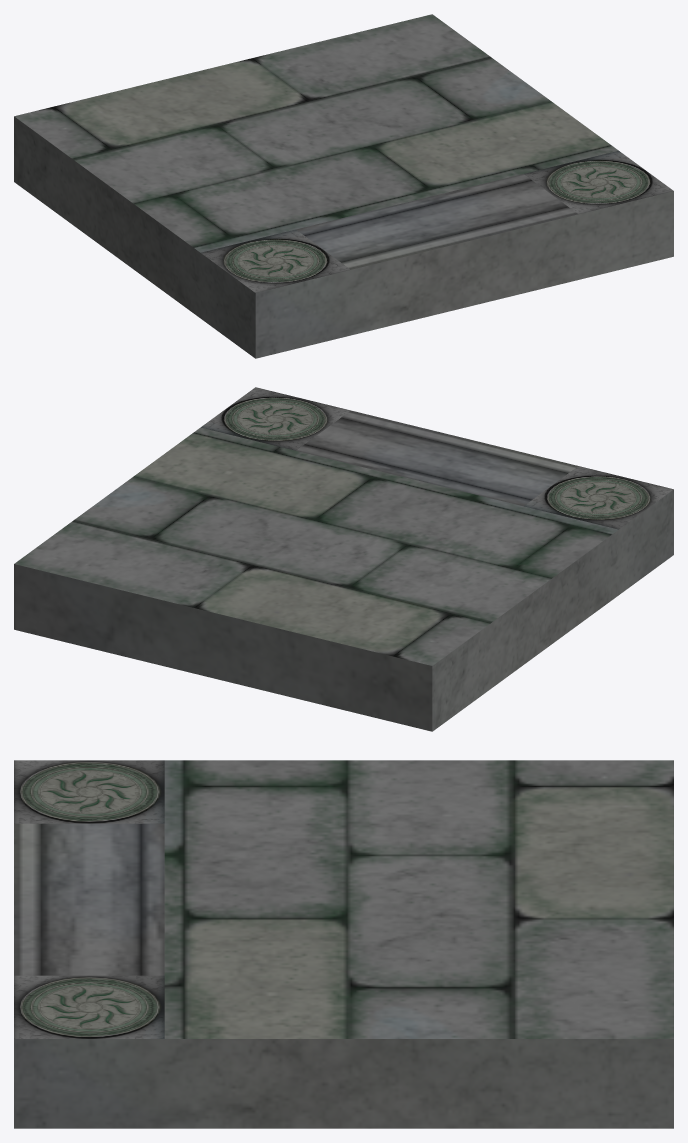
Rendered from floor_small_trim_B_01.glb.
3 views of the same model, one above another, from view 1: azimuth 30°, elevation 25°; view 2: azimuth 150°, elevation 25°; view 3: azimuth 270°, elevation 25° (orthographic). The views are drawn at different scales.
Visible parts, largest first — view 1: floor_small_trim_B_01; view 2: floor_small_trim_B_01; view 3: floor_small_trim_B_01.
Boxes of the visible parts, left/top/right/bottom form: floor_small_trim_B_01: left=14, top=14, right=673, bottom=358; floor_small_trim_B_01: left=14, top=387, right=673, bottom=731; floor_small_trim_B_01: left=14, top=760, right=673, bottom=1128.
Size of the model in its own units: 2 by 0.3 by 2.
1 material, 1 textured.
